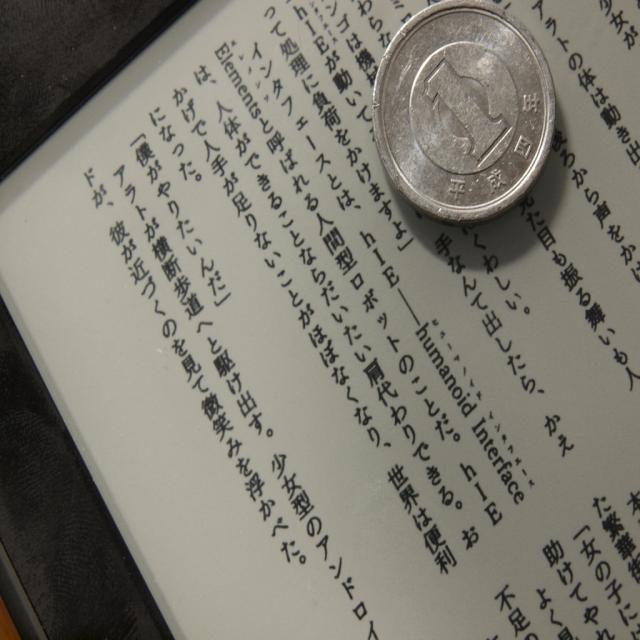Coin: (367, 0, 556, 228)
